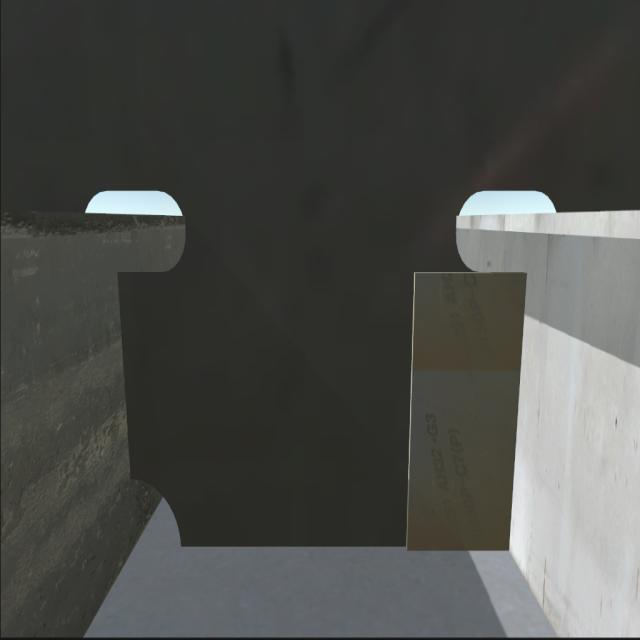fillet_hole: (132, 479, 182, 549)
fillet_yong_jeop_jang: (172, 535, 510, 559)
longi_yong_jeop_jang: (506, 266, 527, 564), (114, 270, 137, 486)
plate_CP01: (410, 268, 516, 546)
